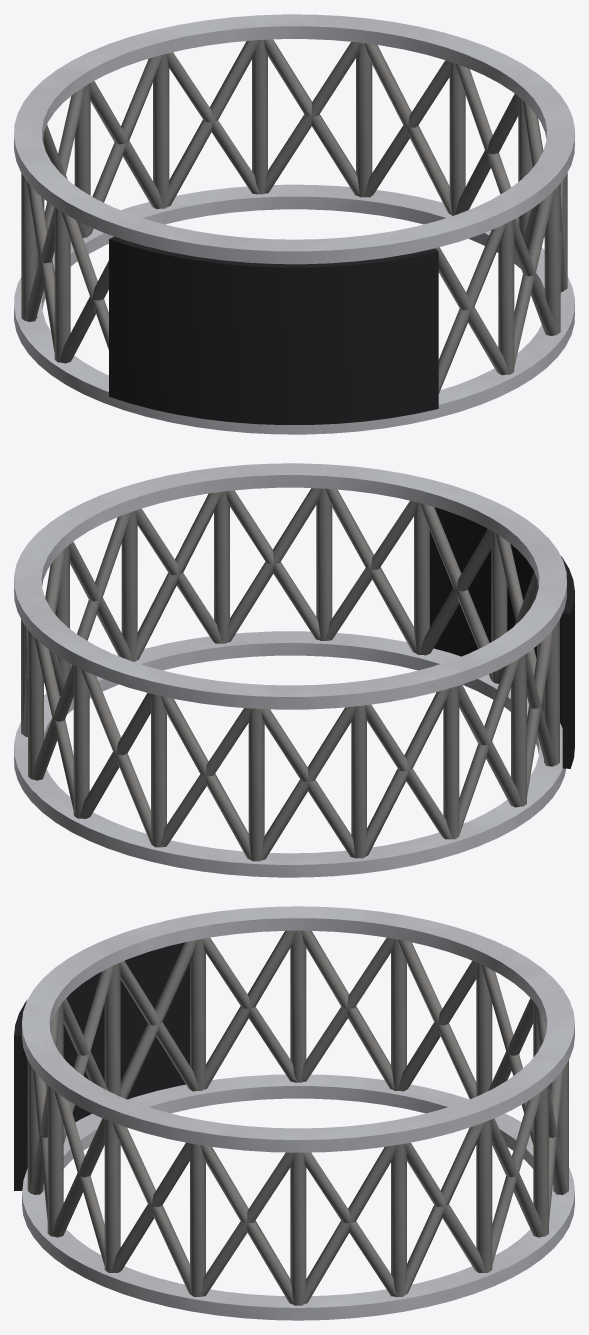
File: stage02_hotstage_ring_m.glb
3 renders of one model, top to bottom at view 1: azimuth 30°, elevation 25°; view 2: azimuth 150°, elevation 25°; view 3: azimuth 270°, elevation 25°, orthographic.
Parts seen in each view (by area): view 1: vent_lattice, flanges, shield_panel; view 2: vent_lattice, flanges, shield_panel; view 3: vent_lattice, flanges, shield_panel.
Boxes of the visible parts, left/top/right/bottom form: vent_lattice: left=21, top=39, right=567, bottom=393; flanges: left=14, top=14, right=574, bottom=434; shield_panel: left=109, top=236, right=438, bottom=424; vent_lattice: left=21, top=488, right=559, bottom=861; flanges: left=14, top=463, right=566, bottom=877; shield_panel: left=430, top=507, right=574, bottom=768; vent_lattice: left=27, top=930, right=568, bottom=1305; flanges: left=22, top=906, right=574, bottom=1320; shield_panel: left=14, top=942, right=189, bottom=1190.
Size of the model in its own units: 2.5 by 0.9 by 2.54.
Materials: 3 (2 with a texture image).
